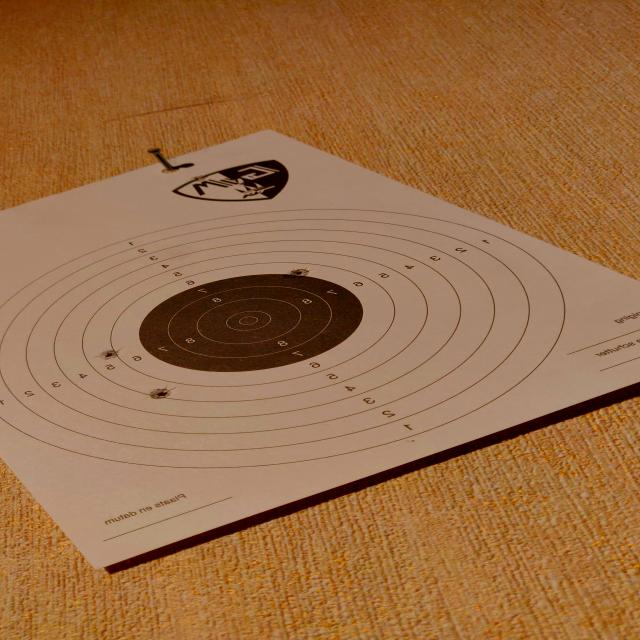5: (144, 386, 176, 400)
6: (93, 348, 122, 360)
7: (283, 268, 313, 280)
Target: (0, 207, 568, 469)
black_contour: (137, 275, 361, 372)
